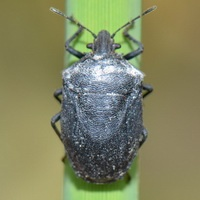insect: (50, 6, 155, 183)
